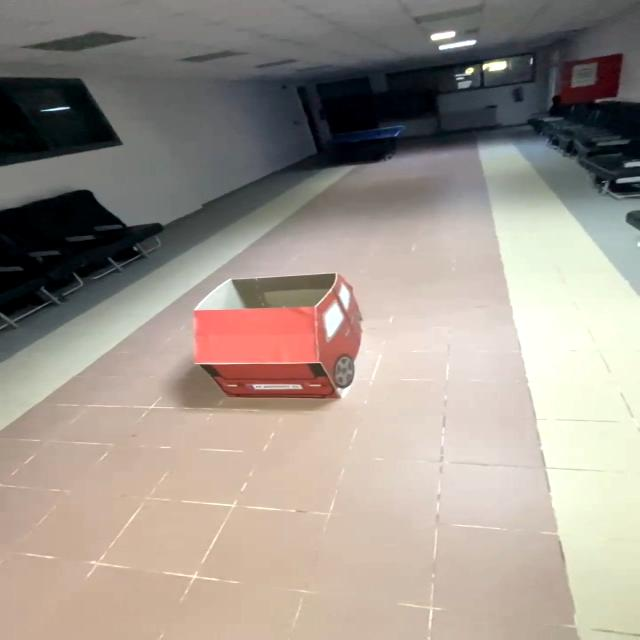red_car: (169, 256, 425, 423)
